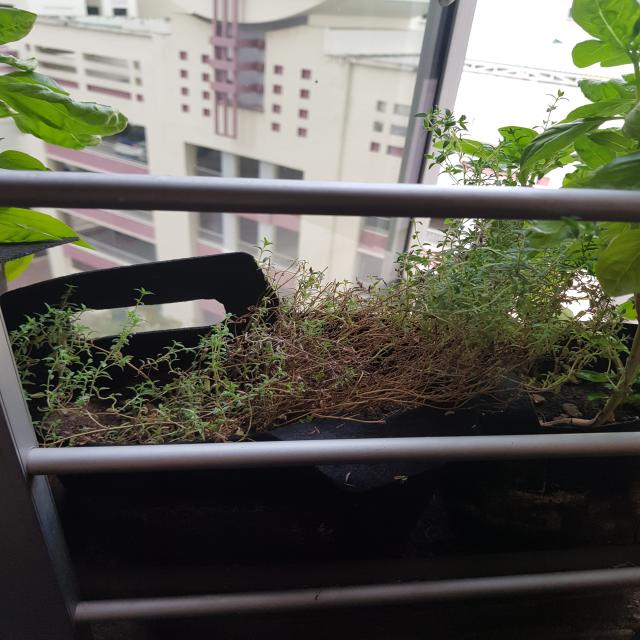Sweet Basil: (0, 0, 125, 268), (568, 0, 636, 188)
Thyme: (14, 276, 565, 445)
